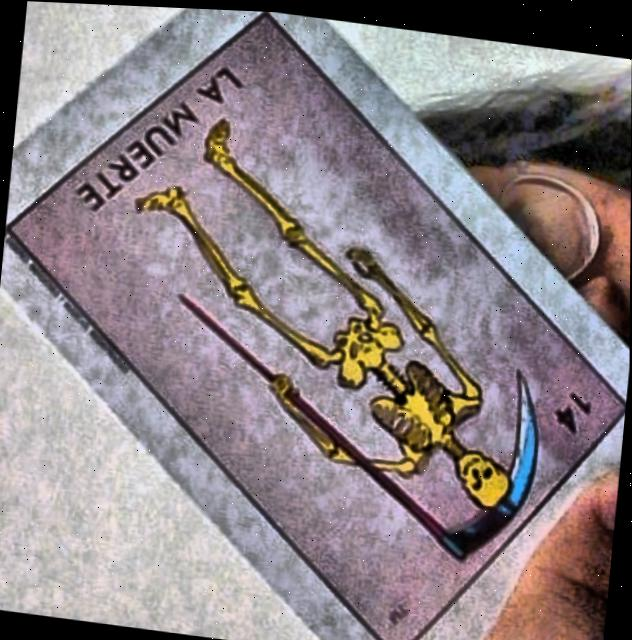La Muerte: (9, 9, 623, 640)
